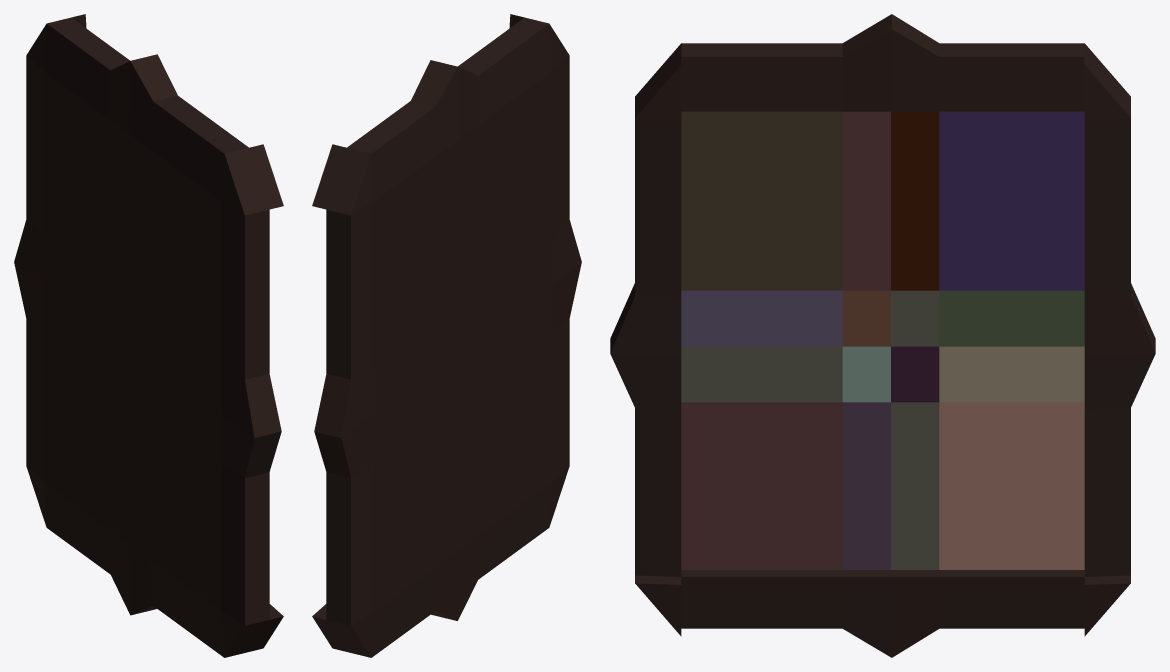
Rendered from Pentacles_Painting_Separate.fbx.
3 views of the same model, side by side, from view 1: azimuth 30°, elevation 25°; view 2: azimuth 150°, elevation 25°; view 3: azimuth 270°, elevation 25° (orthographic). The views are drawn at different scales.
Parts seen in each view (by area): view 1: painting; view 2: painting; view 3: painting.
Boxes of the visible parts, x1,y1,x2,y2 form: painting: (14,14,283,657); painting: (312,14,581,657); painting: (610,14,1155,657).
Bounding box in the file's own units: 18.56 × 220 × 173.
